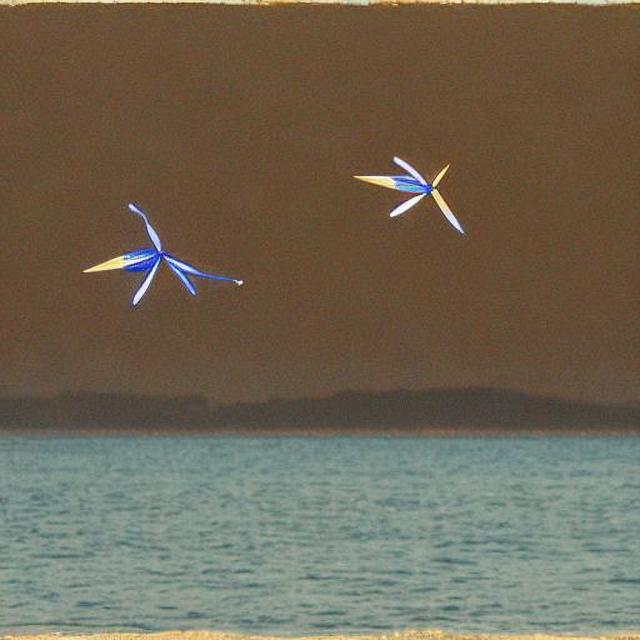floating object: (85, 202, 238, 304), (353, 158, 466, 232)
